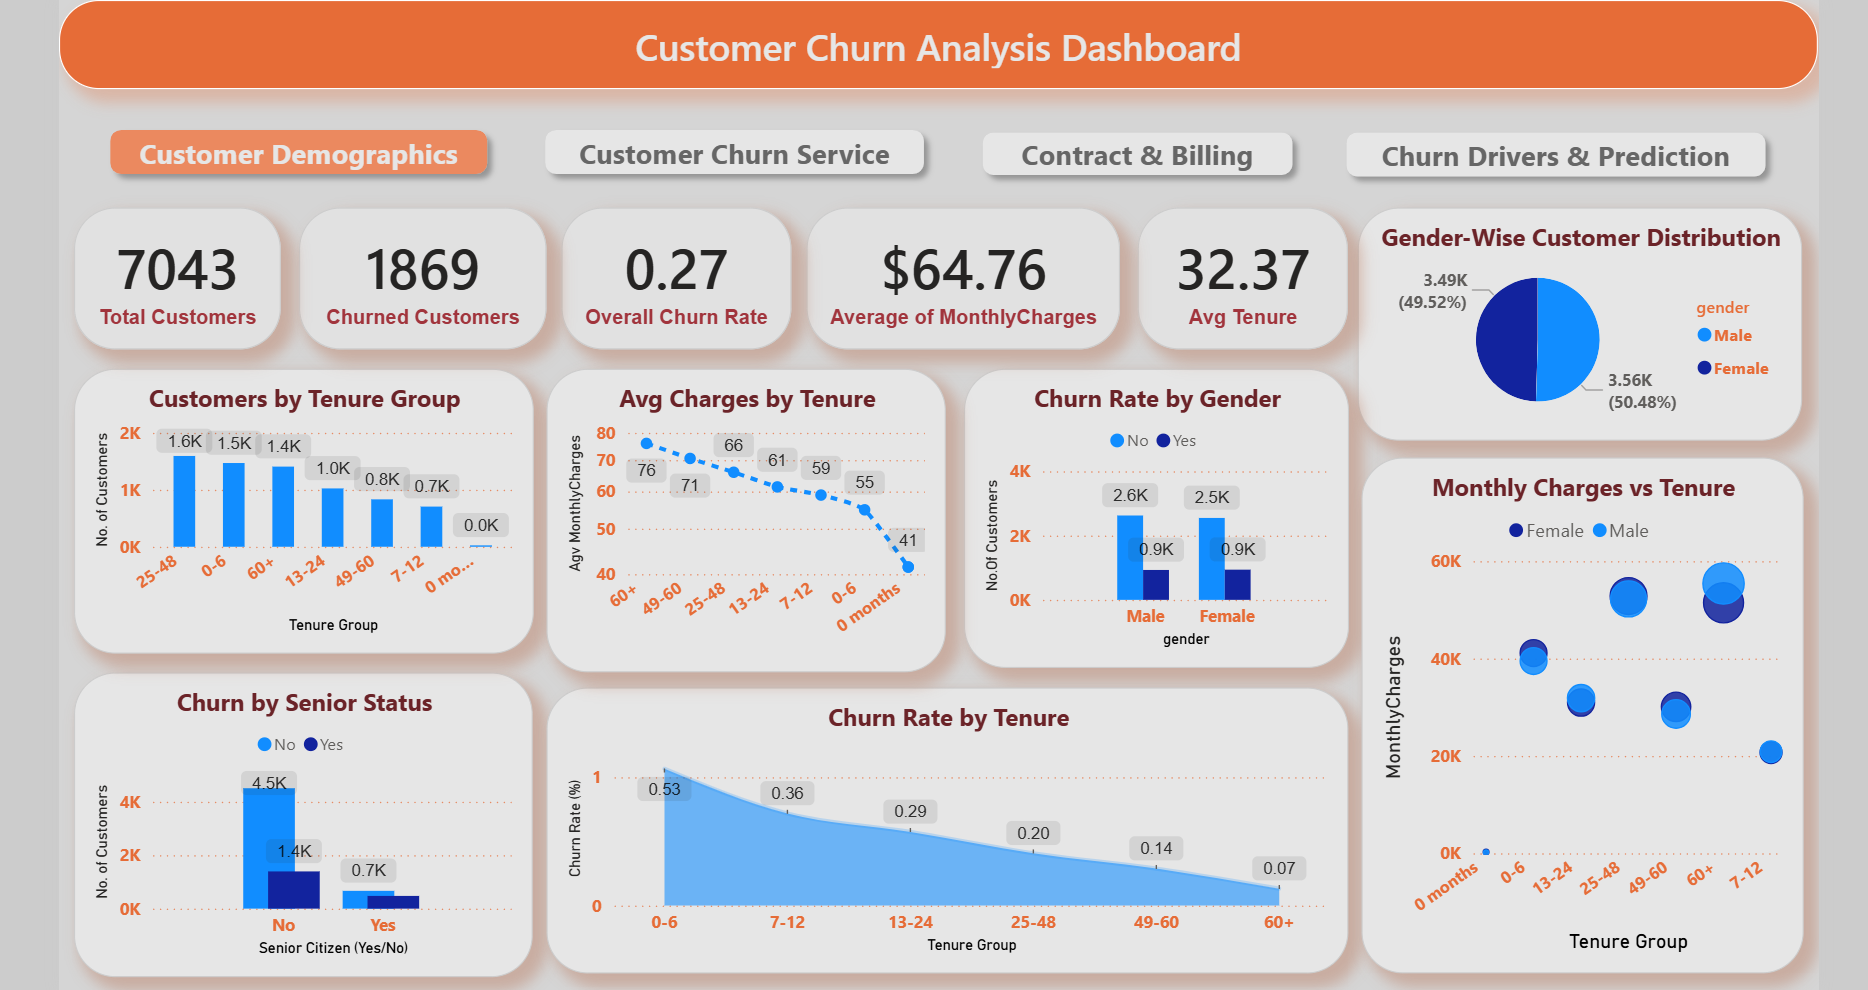

This screenshot's page, from the dashboard's own definition file:
{"tool":"powerbi","page":{"name":"Page 1","canvas":[1280,720],"ordinal":0},"visuals":[{"type":"pieChart","title":"Gender-Wise Customer Distribution","fields":{"Category":["DATASET.gender"],"Y":["CountNonNull(DATASET.customerID)"]},"box":[944.7,150.6,323.5,169.4],"z":0},{"type":"clusteredColumnChart","title":" Churn Rate by Gender","fields":{"Category":["DATASET.gender"],"Series":["DATASET.Churn"],"Y":["CountNonNull(DATASET.customerID)"]},"box":[657.9,267.8,280,217.7],"z":1000},{"type":"clusteredColumnChart","title":"Churn by Senior Status","fields":{"Category":["DATASET.SeniorCitizenFlag"],"Series":["DATASET.Churn"],"Y":["CountNonNull(DATASET.customerID)"]},"box":[11,489.1,333.8,221.3],"z":2000},{"type":"clusteredColumnChart","title":"Customers by Tenure Group","fields":{"Y":["CountNonNull(DATASET.customerID)"],"Category":["DATASET.Tenure Group"]},"box":[10.6,268.2,334.1,207.1],"z":3000},{"type":"lineChart","title":"Churn Rate by Tenure","fields":{"Category":["DATASET.Tenure Group"],"Y":["DATASET.Churn Rate Numeric"]},"box":[354.1,500,583.5,208.2],"z":4000},{"type":"scatterChart","title":"Monthly Charges vs Tenure","fields":{"X":["DATASET.Tenure Group"],"Size":["Sum(DATASET.Num Services)"],"Y":["Sum(DATASET.MonthlyCharges)"],"Series":["DATASET.gender"]},"box":[947.5,332.5,321.2,375],"z":5000},{"type":"card","fields":{"Values":["DATASET.Avg Tenure"]},"box":[784.7,150.6,152.9,103.5],"z":6000},{"type":"card","fields":{"Values":["Avg(DATASET.MonthlyCharges)"]},"box":[543.5,150.6,228.2,103.5],"z":7000},{"type":"card","fields":{"Values":["DATASET.Overall Churn Rate"]},"box":[365.9,150.6,167.1,103.5],"z":8000},{"type":"card","fields":{"Values":["DATASET.Churned Customers"]},"box":[174.1,150.6,180,103.5],"z":9000},{"type":"card","fields":{"Values":["DATASET.Total Customers"]},"box":[10.6,150.6,150.6,103.5],"z":10000},{"type":"textbox","box":[0,0,1279.1,64.8],"z":11000},{"type":"lineChart","title":"Avg Charges by Tenure","fields":{"Category":["DATASET.Tenure Group"],"Y":["Avg(DATASET.MonthlyCharges)"]},"box":[354.1,268.2,290.6,221.2],"z":12000},{"type":"shape","box":[28.1,85.6,292.3,50.1],"z":13000},{"type":"shape","box":[344.8,85.6,293.5,50.1],"z":14000},{"type":"shape","box":[662.8,86.8,243.3,48.9],"z":15000},{"type":"shape","box":[926.9,86.8,322.8,50.1],"z":16000}]}

Visuals, with their boxes on the page's 1280x720 design canvas (x1, y1, x2, y2). These are canvas units, not pixel positions in the 1868x990 screenshot, which may show the page scaled, cropped or inside an application window:
"Gender-Wise Customer Distribution" pieChart: 945/151/1268/320
" Churn Rate by Gender" clusteredColumnChart: 658/268/938/486
"Churn by Senior Status" clusteredColumnChart: 11/489/345/710
"Customers by Tenure Group" clusteredColumnChart: 11/268/345/475
"Churn Rate by Tenure" lineChart: 354/500/938/708
"Monthly Charges vs Tenure" scatterChart: 948/332/1269/708
card - DATASET.Avg Tenure: 785/151/938/254
card - Avg(DATASET.MonthlyCharges): 544/151/772/254
card - DATASET.Overall Churn Rate: 366/151/533/254
card - DATASET.Churned Customers: 174/151/354/254
card - DATASET.Total Customers: 11/151/161/254
textbox: 0/0/1279/65
"Avg Charges by Tenure" lineChart: 354/268/645/489
shape: 28/86/320/136
shape: 345/86/638/136
shape: 663/87/906/136
shape: 927/87/1250/137
